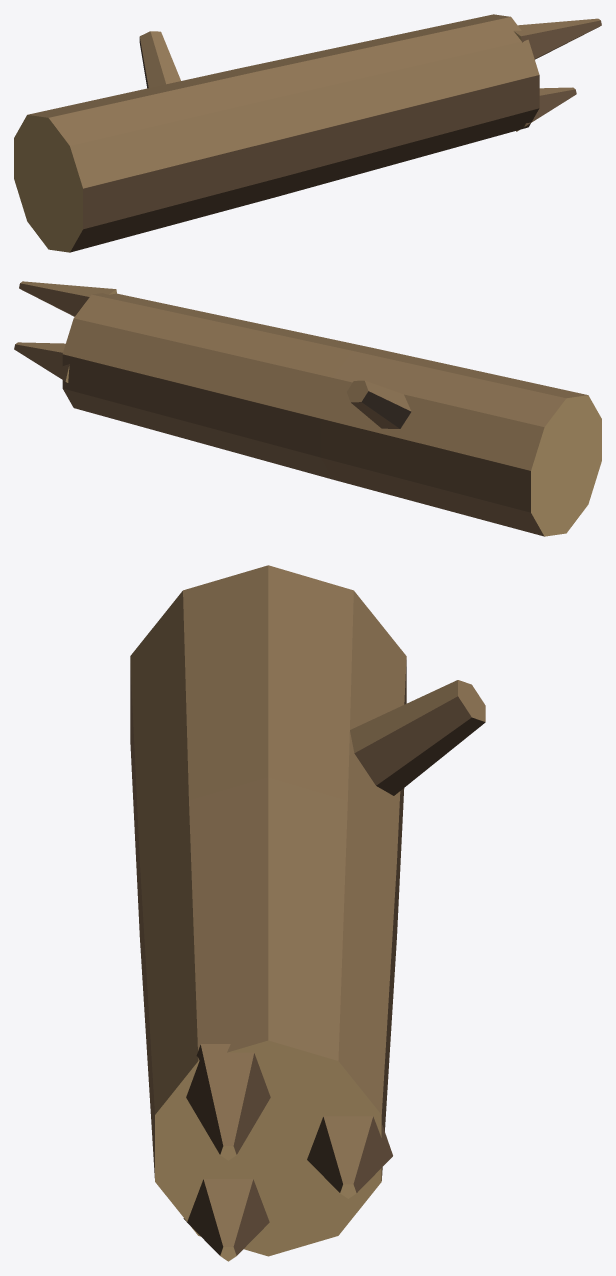
The model's file is TW_PROP_LOG_BROKEN_A_LOD0.glb.
3 renders of one model, top to bottom at view 1: azimuth 30°, elevation 25°; view 2: azimuth 150°, elevation 25°; view 3: azimuth 270°, elevation 25°, orthographic. The views are drawn at different scales.
Visible parts, largest first — view 1: TW_PROP_LOG_BROKEN_A_LOD0; view 2: TW_PROP_LOG_BROKEN_A_LOD0; view 3: TW_PROP_LOG_BROKEN_A_LOD0.
Part boxes in pixels (bbox=[...]): TW_PROP_LOG_BROKEN_A_LOD0: bbox=[14, 14, 601, 252]; TW_PROP_LOG_BROKEN_A_LOD0: bbox=[14, 281, 601, 536]; TW_PROP_LOG_BROKEN_A_LOD0: bbox=[130, 565, 485, 1261].
Size of the model in its own units: 1.72 by 0.4473 by 0.4894.
Materials: 1 (1 with a texture image).
